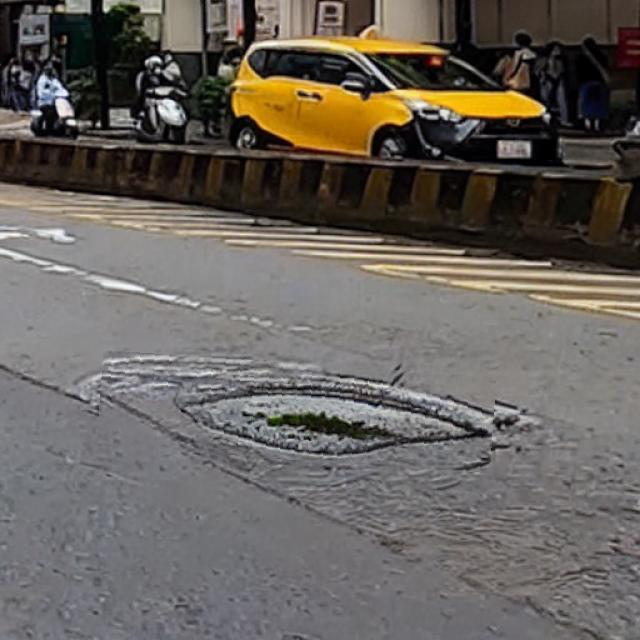puddle: (99, 358, 495, 468)
